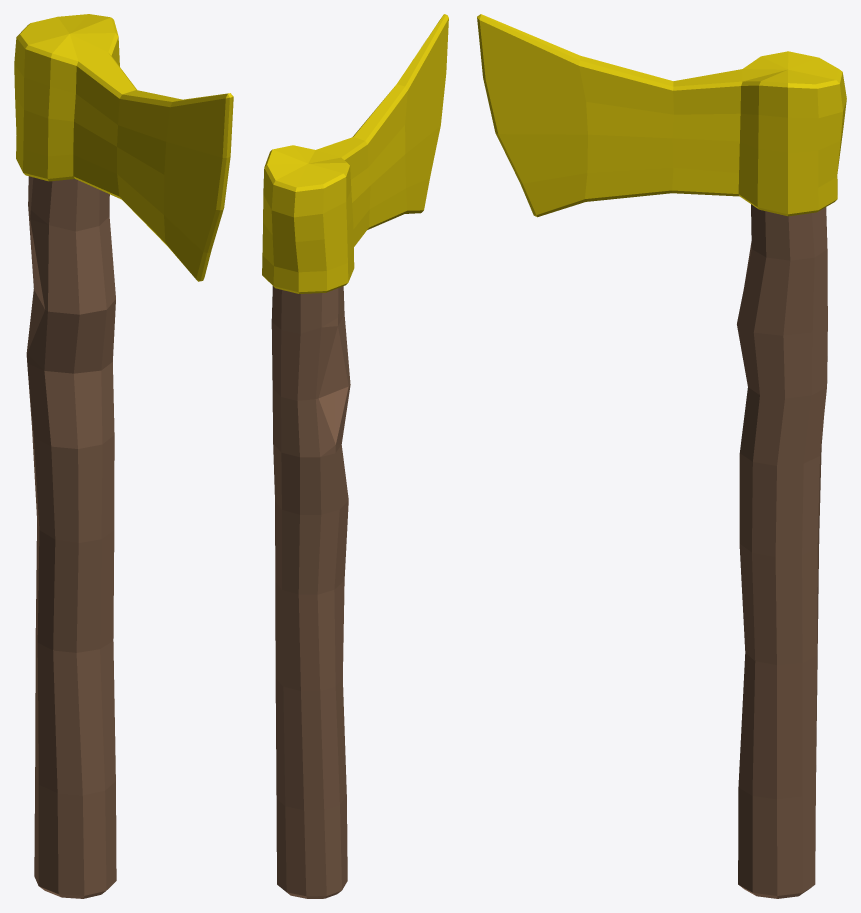
The model's file is Axe_01_Gold.fbx.
3 renders of one model, left to right at view 1: azimuth 30°, elevation 25°; view 2: azimuth 150°, elevation 25°; view 3: azimuth 270°, elevation 25°, orthographic. The views are drawn at different scales.
Visible parts, largest first — view 1: Axe_01_Gold; view 2: Axe_01_Gold; view 3: Axe_01_Gold.
Part boxes in pixels (x1=…): Axe_01_Gold: x1=14, y1=14, x2=233, y2=898; Axe_01_Gold: x1=262, y1=14, x2=448, y2=898; Axe_01_Gold: x1=477, y1=14, x2=846, y2=898.
Bounding box in the file's own units: 13.94 × 129 × 49.54.
